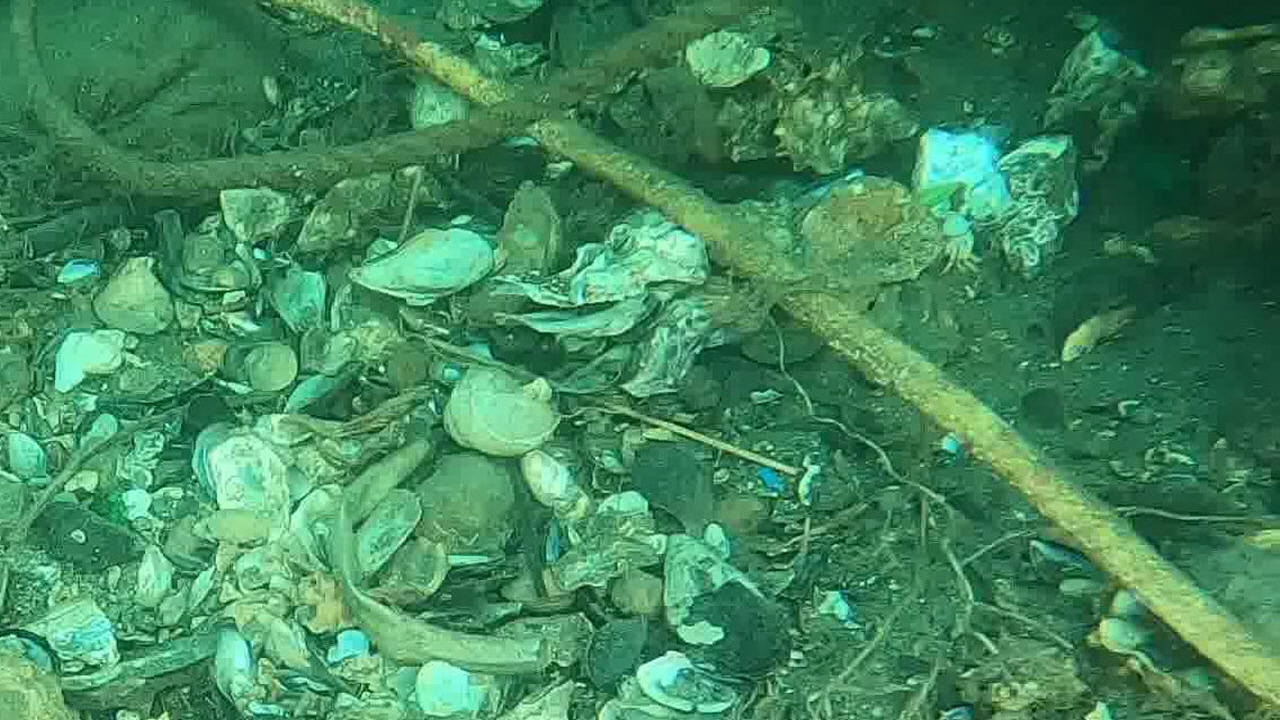rope: (0, 1, 767, 198)
